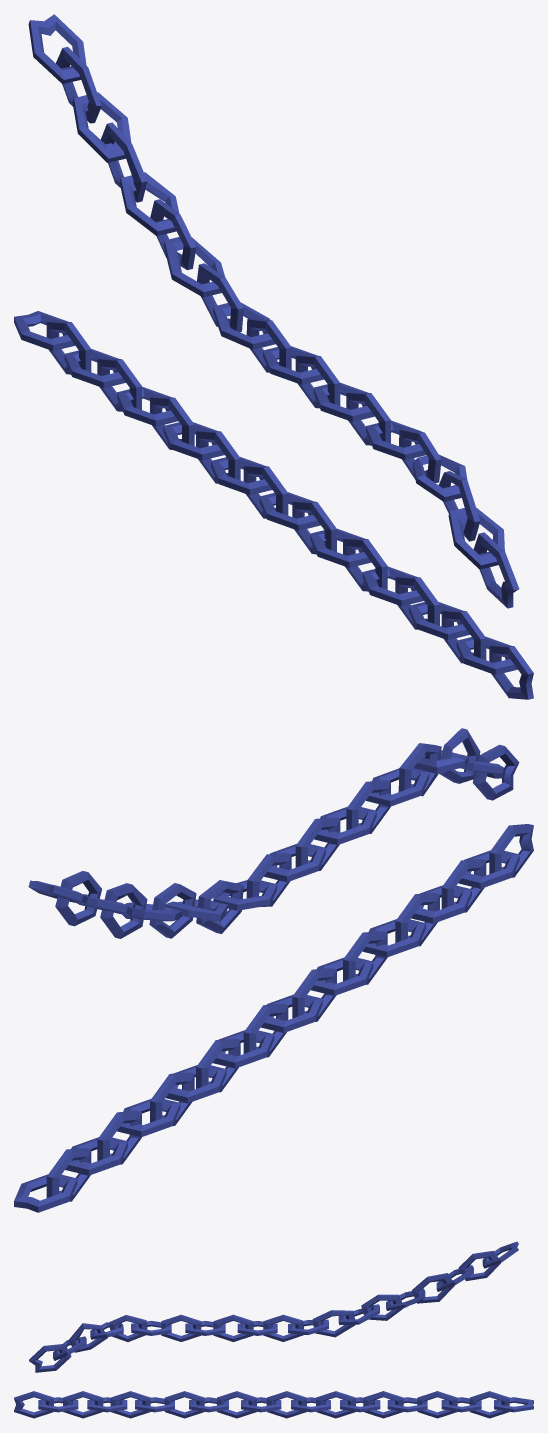
File: platform_chains.fbx
The picture shows the model from 3 angles, top to bottom: view 1: azimuth 30°, elevation 25°; view 2: azimuth 150°, elevation 25°; view 3: azimuth 270°, elevation 25°; orthographic projection. The views are drawn at different scales.
Parts seen in each view (by area): view 1: CurvedChain, StraightChain; view 2: StraightChain, CurvedChain; view 3: StraightChain, CurvedChain.
Part boxes in pixels (x1=…): CurvedChain: x1=28, y1=14, x2=519, y2=608; StraightChain: x1=14, y1=311, x2=533, y2=699; StraightChain: x1=14, y1=824, x2=533, y2=1212; CurvedChain: x1=28, y1=728, x2=519, y2=938; StraightChain: x1=14, y1=1391, x2=533, y2=1418; CurvedChain: x1=29, y1=1241, x2=518, y2=1372.
Size of the model in its own units: 55.98 by 372 by 1011.
